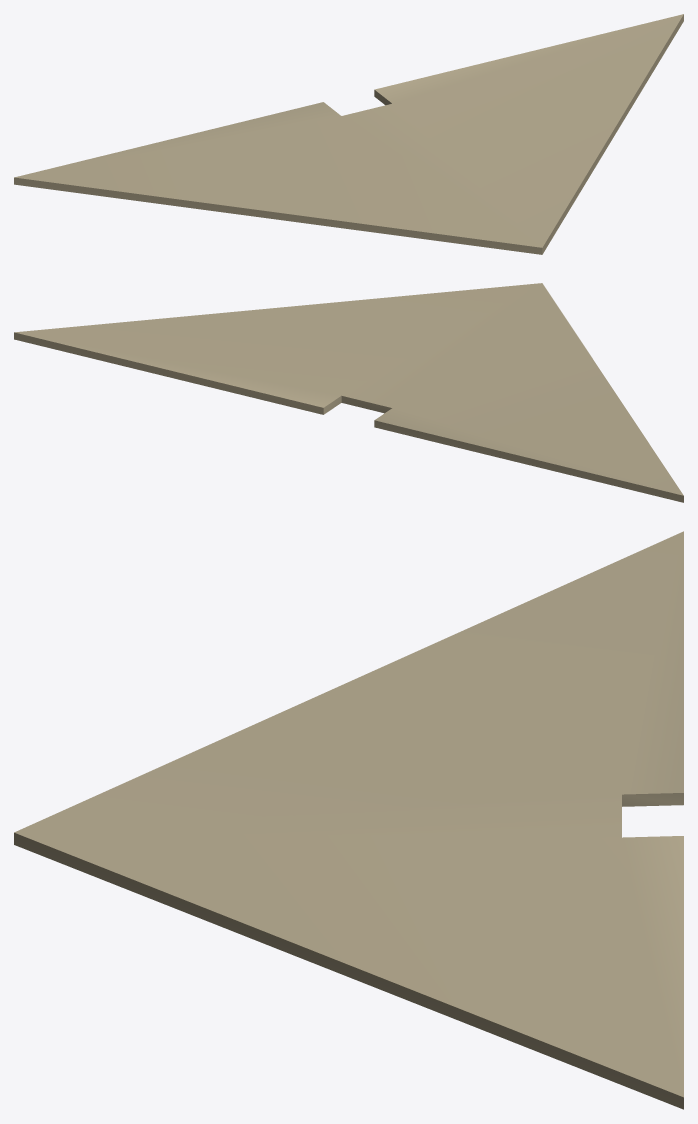
The model's file is breach_wedge_a_12x12.glb.
The picture shows the model from 3 angles, top to bottom: view 1: azimuth 30°, elevation 25°; view 2: azimuth 150°, elevation 25°; view 3: azimuth 270°, elevation 25°; orthographic projection. The views are drawn at different scales.
Parts seen in each view (by area): view 1: WedgeA; view 2: WedgeA; view 3: WedgeA.
Boxes of the visible parts, x1=… form: WedgeA: x1=14, y1=14, x2=683, y2=254; WedgeA: x1=14, y1=283, x2=683, y2=502; WedgeA: x1=14, y1=531, x2=683, y2=1109.
Bounding box in the file's own units: 11.86 × 0.2979 × 5.93.
